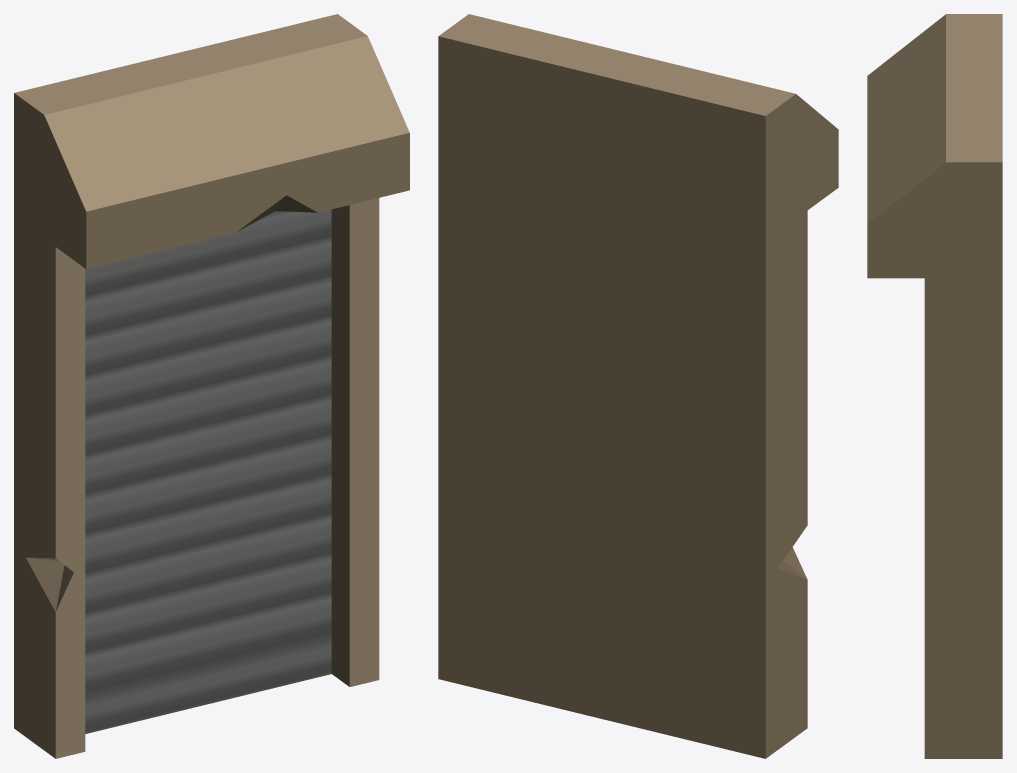
File: Door_B04.fbx
3 renders of one model, left to right at view 1: azimuth 30°, elevation 25°; view 2: azimuth 150°, elevation 25°; view 3: azimuth 270°, elevation 25°, orthographic. The views are drawn at different scales.
Visible parts, largest first — view 1: Door_B04; view 2: Door_B04; view 3: Door_B04.
Part boxes in pixels (x1,y1,x2,y2): Door_B04: (14, 14, 409, 758); Door_B04: (438, 14, 838, 758); Door_B04: (867, 14, 1002, 758).
Bounding box in the file's own units: 201 × 377 × 77.55.
